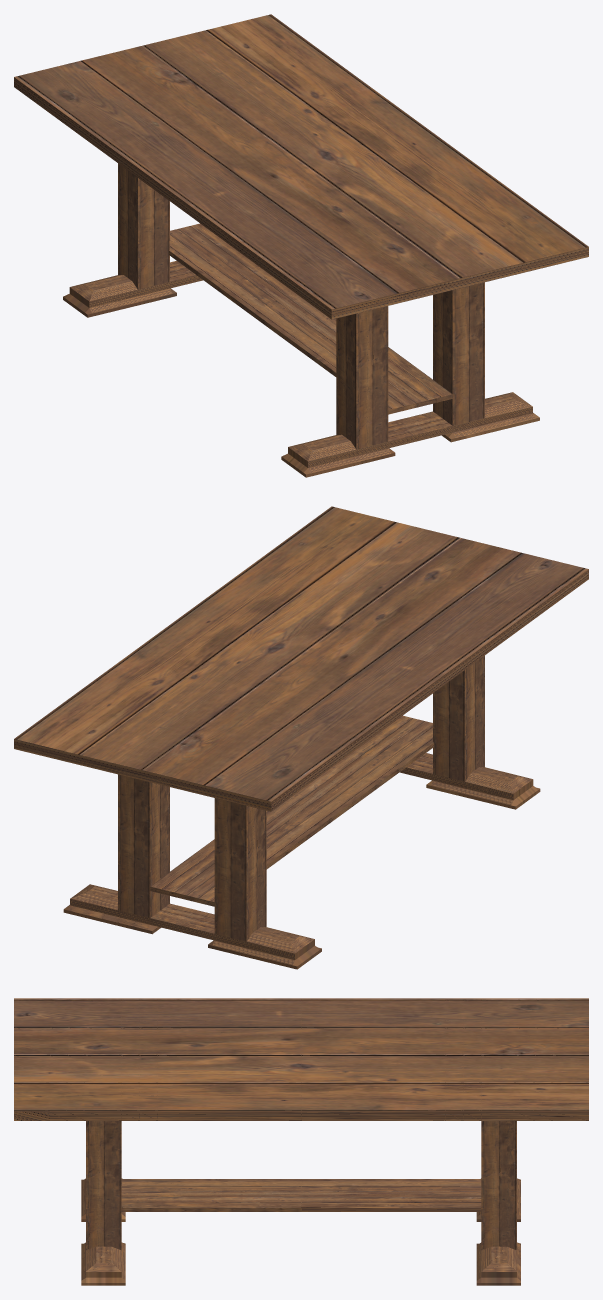
File: LowPolyDesk.obj
3 views of the same model, one above another, from view 1: azimuth 30°, elevation 25°; view 2: azimuth 150°, elevation 25°; view 3: azimuth 270°, elevation 25° (orthographic). The views are drawn at different scales.
Visible parts, largest first — view 1: Cube; view 2: Cube; view 3: Cube.
Boxes of the visible parts, x1=… form: Cube: x1=14, y1=14, x2=588, y2=477; Cube: x1=14, y1=506, x2=588, y2=969; Cube: x1=14, y1=998, x2=588, y2=1285.
Bounding box in the file's own units: 3.35 × 2.46 × 7.16.
1 material, 1 textured.
